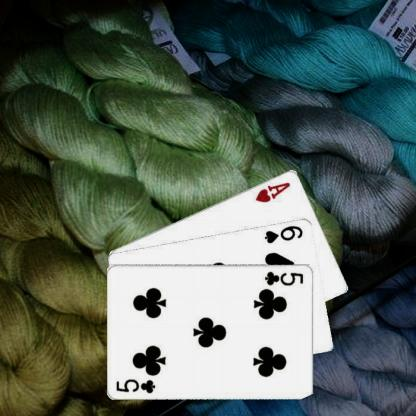5C: (114, 376, 157, 395), (263, 268, 305, 286)
6S: (262, 222, 304, 244)
AH: (252, 179, 292, 203)
